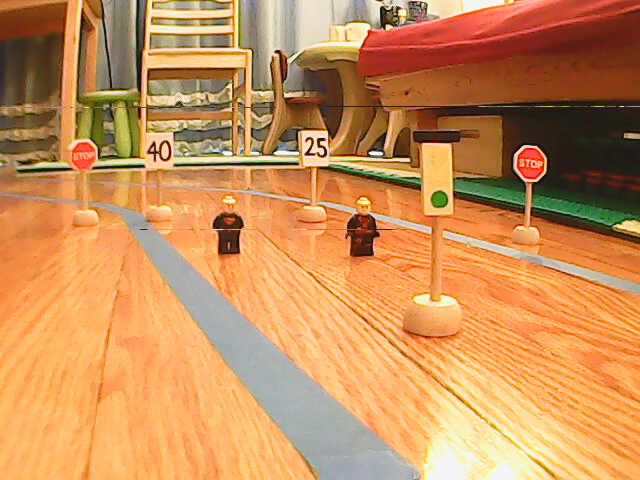Green Traffic Light: (413, 131, 461, 216)
Person: (344, 197, 383, 257), (212, 197, 249, 254)
Speed Limit 25: (298, 130, 330, 170)
Speed Limit 40: (143, 131, 176, 171)
Stop Sign: (513, 144, 550, 185), (69, 137, 101, 172)
